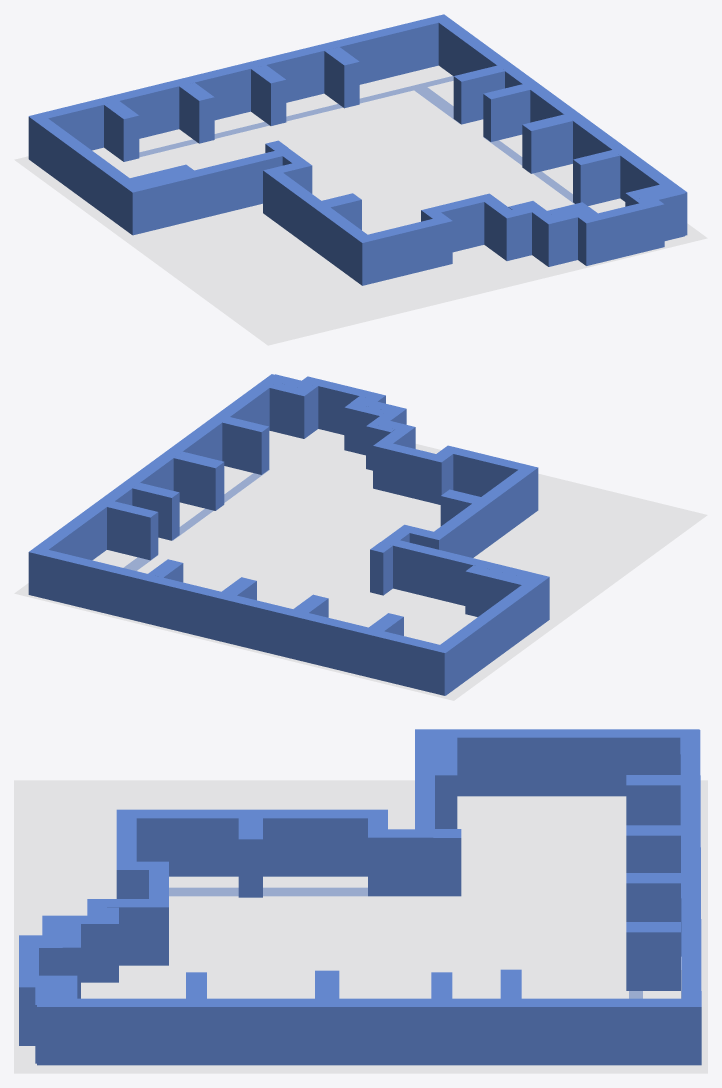
Rendered from my_building.dae.
3 renders of one model, top to bottom at view 1: azimuth 30°, elevation 25°; view 2: azimuth 150°, elevation 25°; view 3: azimuth 270°, elevation 25°, orthographic. The views are drawn at different scales.
Parts seen in each view (by area): view 1: 立方體.012, 立方體.001, 立方體.002, 立方體.004, 立方體.003, 立方體.005, 立方體; view 2: 立方體.012, 立方體.001, 立方體, 立方體.002, 立方體.004, 立方體.003; view 3: 立方體.012, 立方體.002, 立方體.003, 立方體.004, 立方體.005, 立方體, 立方體.001.
Boxes of the visible parts, box(x1,y1,x2,y2) form: 立方體.012: box(14, 14, 707, 345); 立方體.001: box(522, 114, 572, 173); 立方體.002: box(324, 47, 359, 108); 立方體.004: box(179, 82, 214, 143); 立方體.003: box(251, 65, 286, 125); 立方體.005: box(104, 101, 139, 161); 立方體: box(322, 193, 361, 229); 立方體.012: box(14, 374, 707, 700); 立方體.001: box(173, 451, 224, 510); 立方體: box(440, 489, 480, 526); 立方體.002: box(148, 559, 183, 582); 立方體.004: box(293, 594, 328, 617); 立方體.003: box(222, 577, 256, 600); 立方體.012: box(14, 729, 707, 1073); 立方體.002: box(626, 922, 680, 990); 立方體.003: box(626, 873, 680, 921); 立方體.004: box(626, 825, 680, 872); 立方體.005: box(626, 775, 680, 825); 立方體: box(238, 818, 262, 897); 立方體.001: box(315, 970, 339, 998).
Bounding box in the file's own units: 11.4 × 11.4 × 1.06.
